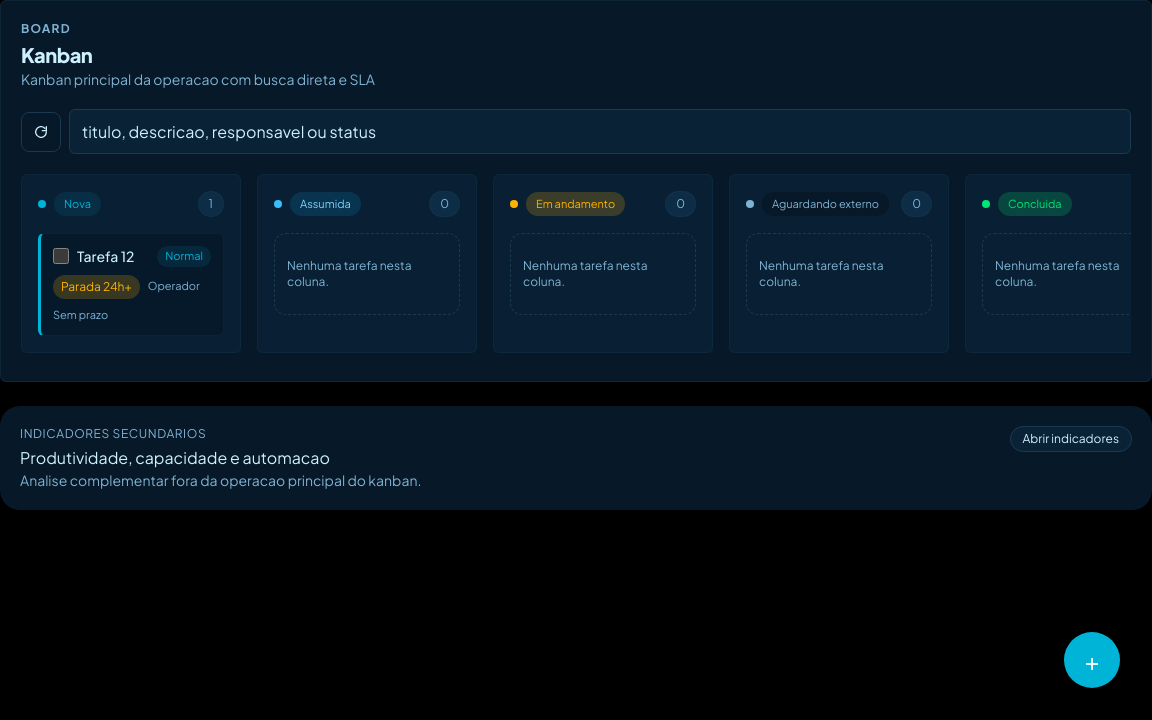
Test case: AdminTasksPanel › fecha o detalhe admin quando a tarefa eh excluida pelo detalhe
This screenshot has width=1152, height=720.
Click the button with aria-label "Abrir tarefa Tarefa 12": x=131, y=285 x1=38 y1=233 x2=224 y2=336
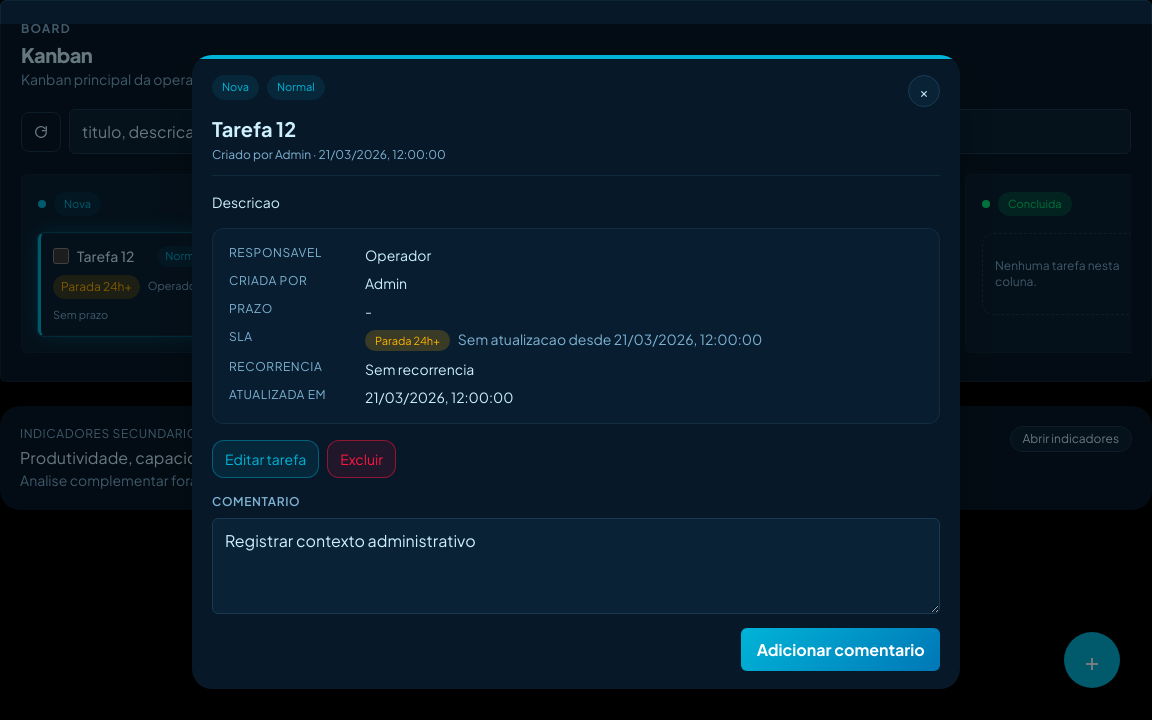
Click the button "Excluir": x=362, y=459 x1=327 y1=440 x2=396 y2=478
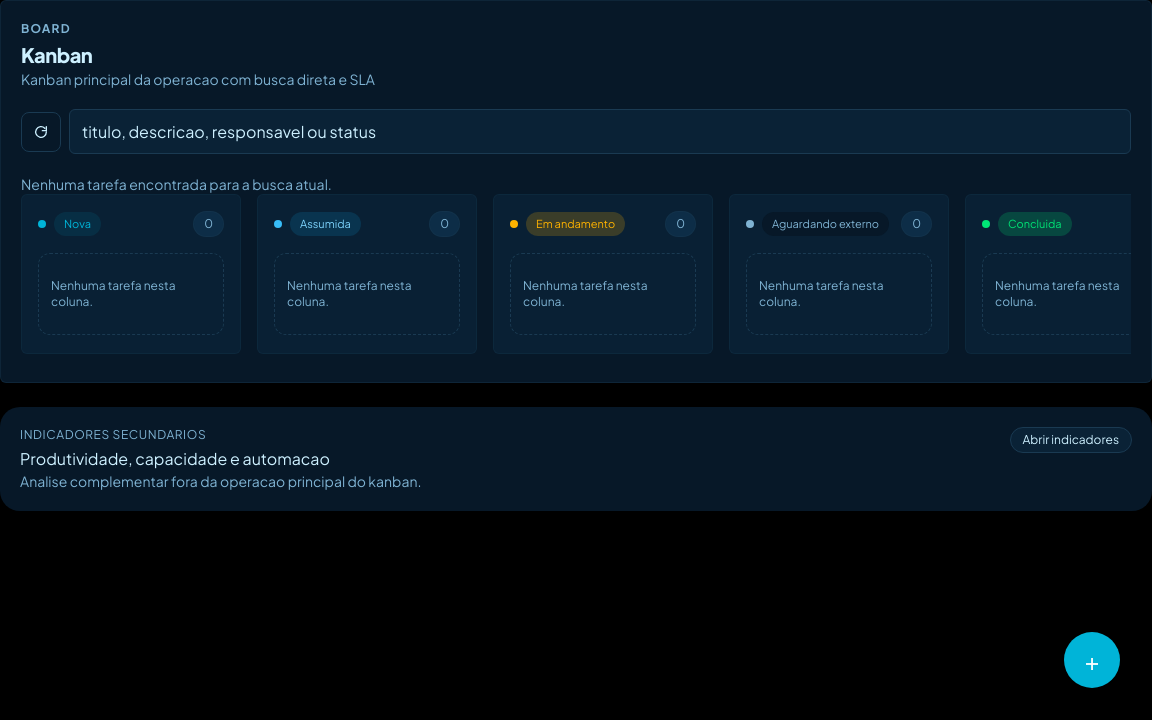
Now the button "Tarefa 12" is gone
